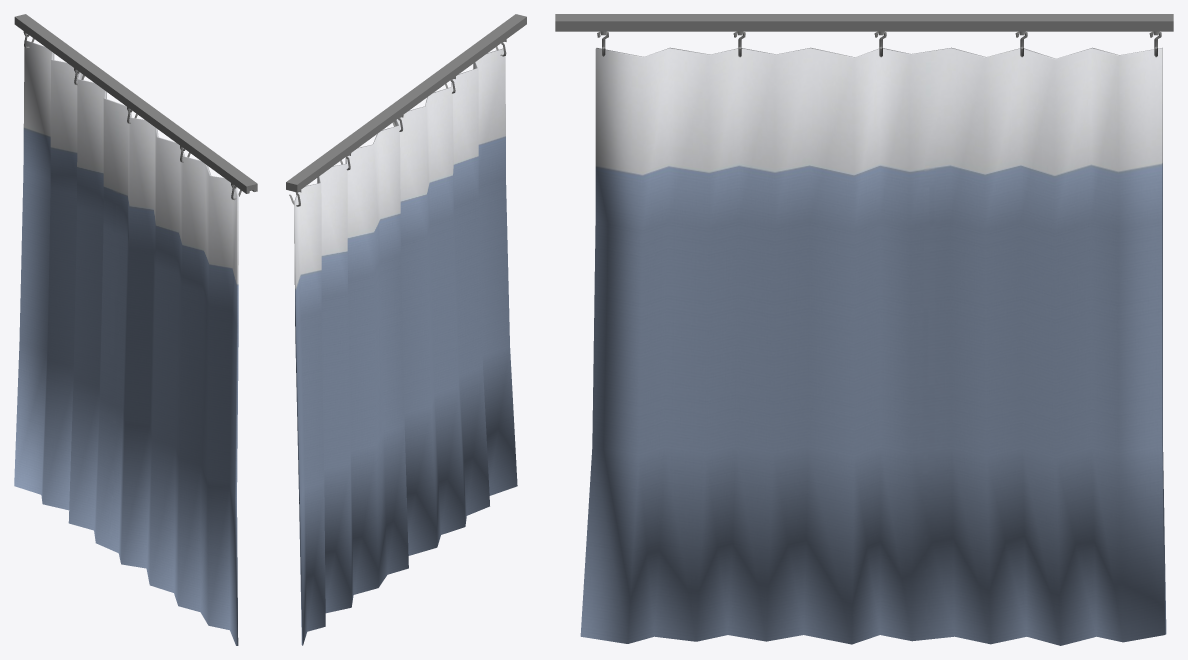
Rendered from bed_curtain.dae.
3 views of the same model, side by side, from view 1: azimuth 30°, elevation 25°; view 2: azimuth 150°, elevation 25°; view 3: azimuth 270°, elevation 25° (orthographic). The views are drawn at different scales.
Parts seen in each view (by area): view 1: L_Curtain, Rail; view 2: L_Curtain, Rail; view 3: L_Curtain, Rail.
Boxes of the visible parts, x1,y1,x2,y2 form: L_Curtain: (14,41,238,645); Rail: (14,14,257,193); L_Curtain: (294,48,517,645); Rail: (286,14,526,192); L_Curtain: (580,47,1166,645); Rail: (555,14,1173,31).
Size of the model in its own units: 0.1479 by 2.16 by 2.4.
